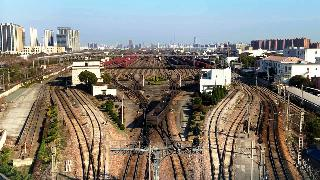train: (143, 91, 174, 128)
